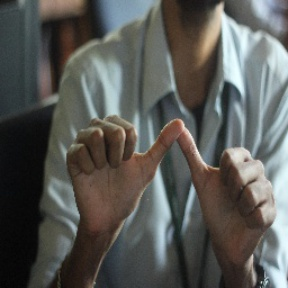A: (80, 108, 265, 224)
